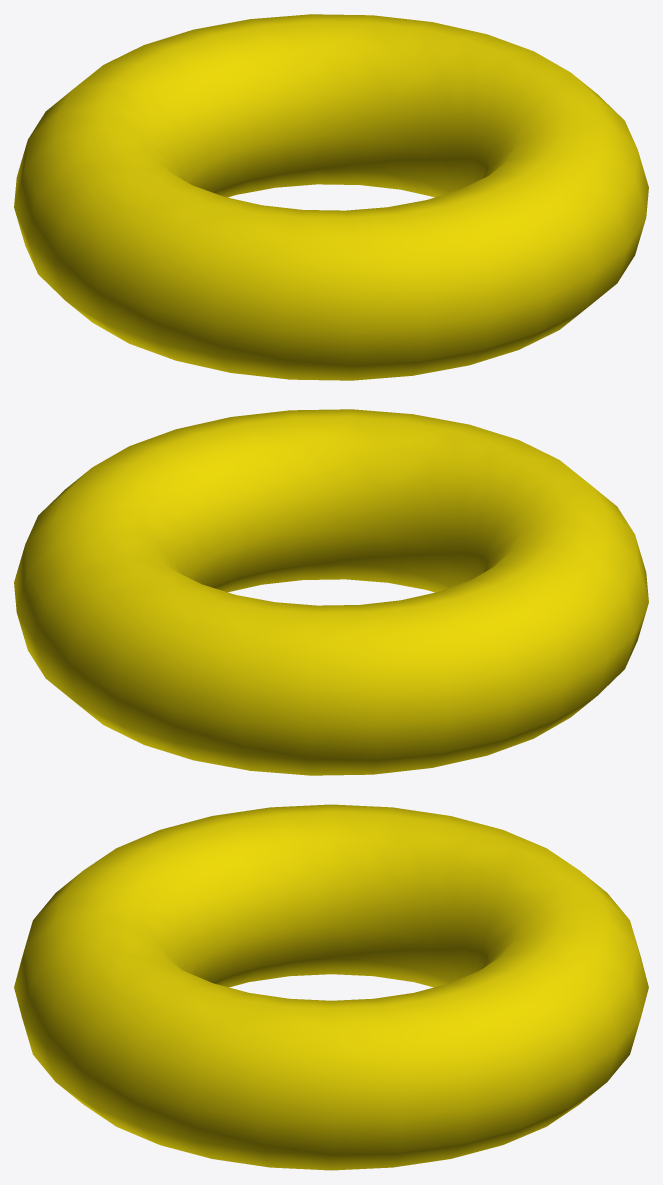
The model's file is Swimming ring.fbx.
3 views of the same model, one above another, from view 1: azimuth 30°, elevation 25°; view 2: azimuth 150°, elevation 25°; view 3: azimuth 270°, elevation 25° (orthographic).
Parts seen in each view (by area): view 1: Тор.005; view 2: Тор.005; view 3: Тор.005.
Part boxes in pixels (box(x1,y1,x2,y2)): Тор.005: box(14, 14, 648, 380); Тор.005: box(14, 409, 648, 775); Тор.005: box(14, 804, 648, 1170).
Size of the model in its own units: 273 by 73.34 by 273.
